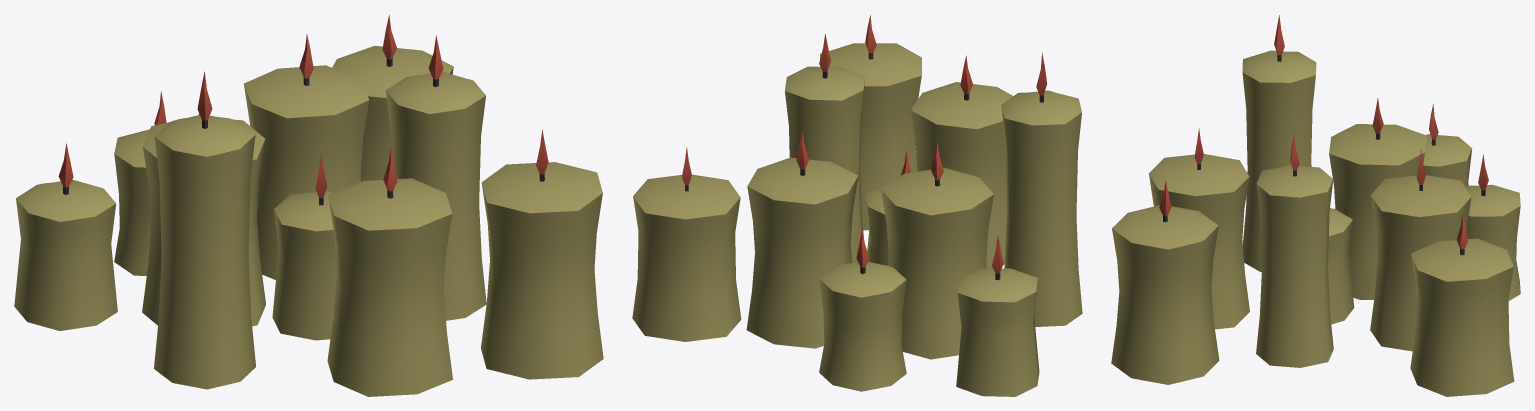
File: Candles_2.glb
The picture shows the model from 3 angles, left to right: view 1: azimuth 30°, elevation 25°; view 2: azimuth 150°, elevation 25°; view 3: azimuth 270°, elevation 25°; orthographic projection. The views are drawn at different scales.
Parts seen in each view (by area): view 1: Candles_2; view 2: Candles_2; view 3: Candles_2.
Boxes of the visible parts, box(x1,y1,x2,y2) form: Candles_2: box(14, 15, 603, 396); Candles_2: box(632, 14, 1082, 396); Candles_2: box(1111, 15, 1520, 396).
Size of the model in its own units: 0.9931 by 0.6457 by 0.9861.
